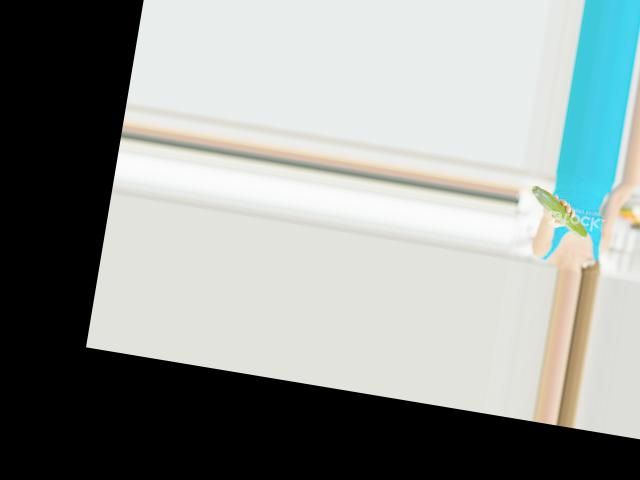cucumber: (526, 184, 594, 238)
